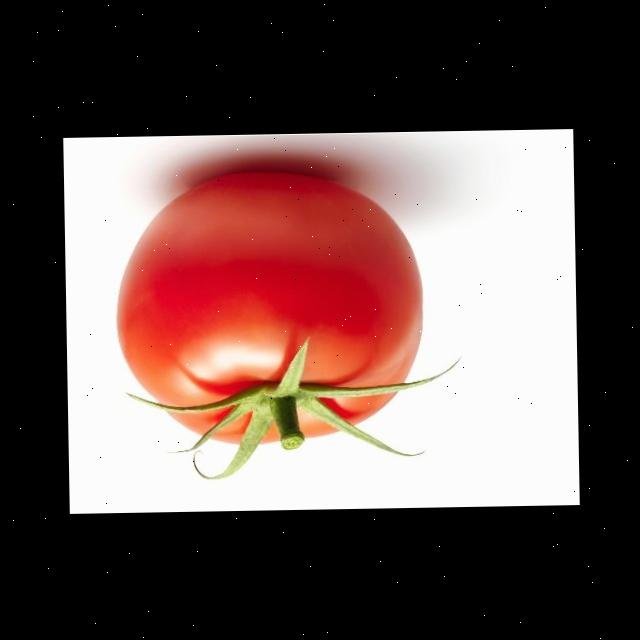tomato: (100, 157, 438, 466)
